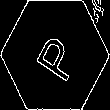P_NW: (28, 26, 82, 84)
